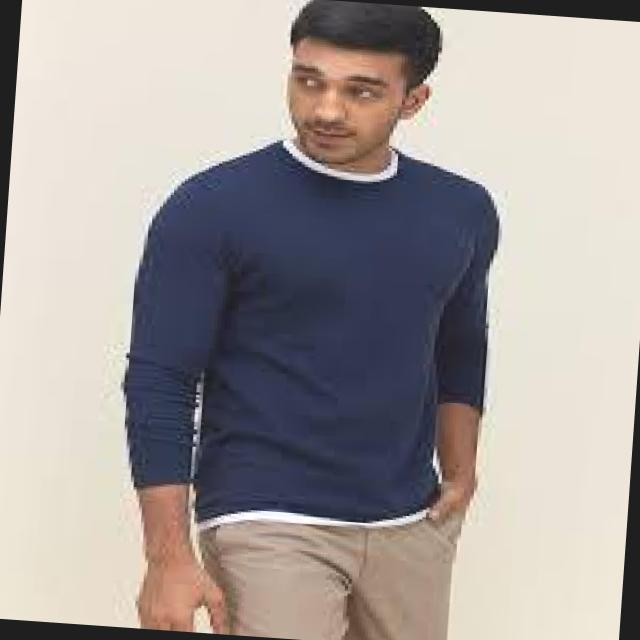Tshirt: (106, 130, 554, 554)
